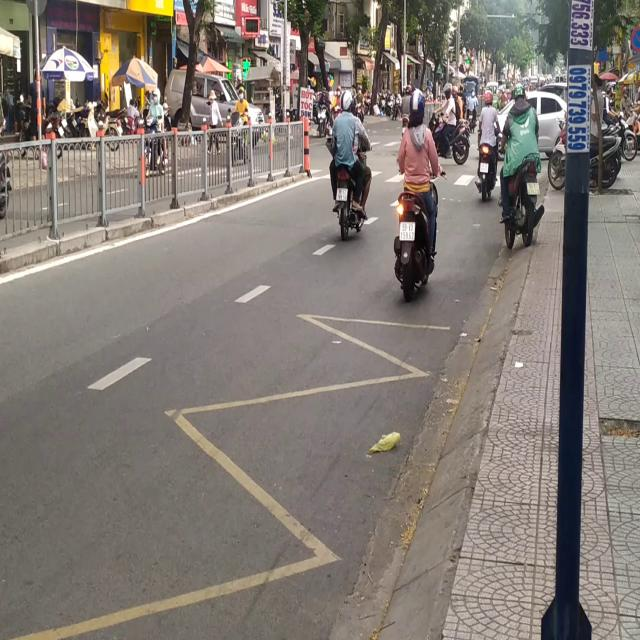bien_trang: (399, 218, 417, 244), (334, 182, 348, 203)
